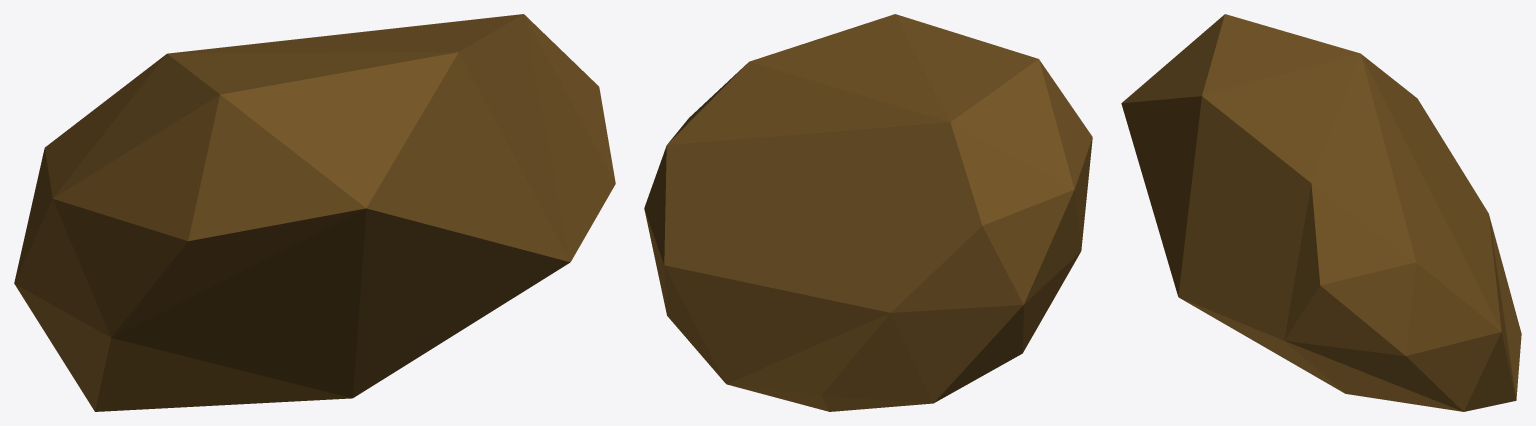
File: LargePotato.glb
3 renders of one model, left to right at view 1: azimuth 30°, elevation 25°; view 2: azimuth 150°, elevation 25°; view 3: azimuth 270°, elevation 25°, orthographic. The views are drawn at different scales.
Visible parts, largest first — view 1: LargePotato; view 2: LargePotato; view 3: LargePotato.
Boxes of the visible parts, x1=… form: LargePotato: x1=14, y1=14, x2=615, y2=411; LargePotato: x1=644, y1=14, x2=1092, y2=411; LargePotato: x1=1121, y1=14, x2=1521, y2=411.
Bounding box in the file's own units: 0.1794 × 0.1328 × 0.1485.
